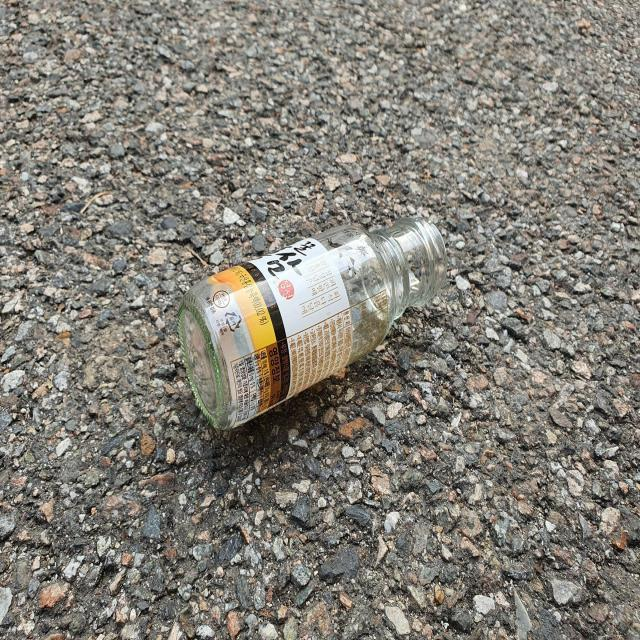glass: (178, 220, 447, 429)
